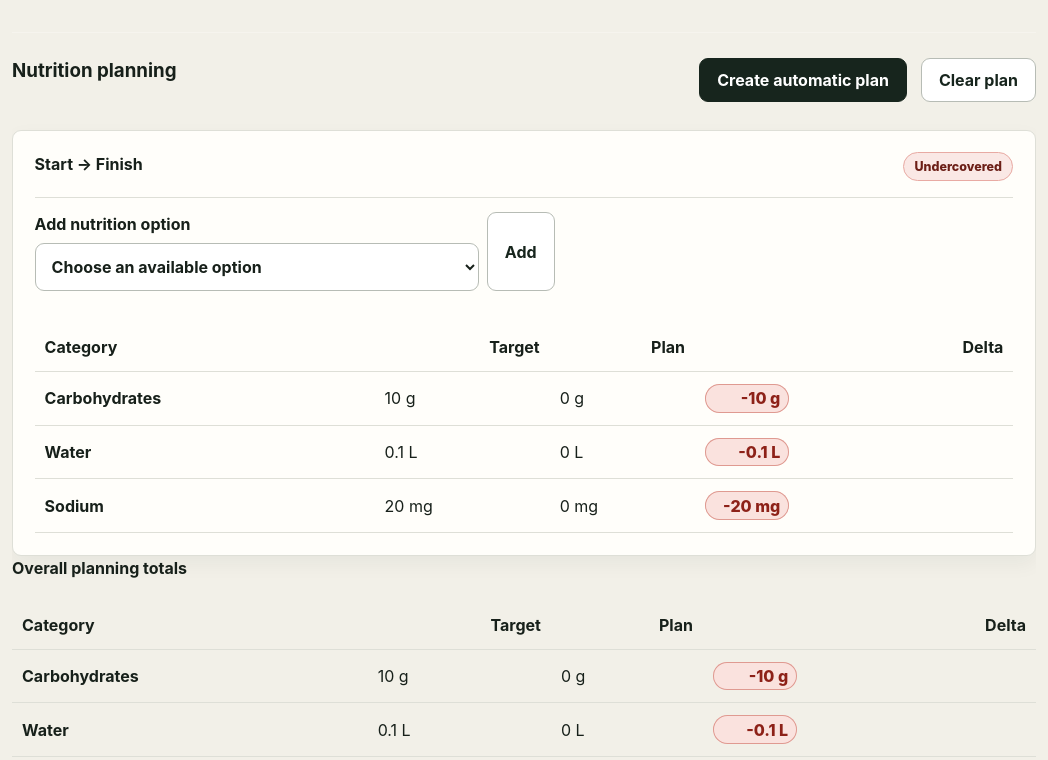
Test case: NutritionPlanningView › shows accessible progress while using the ten-second deadline
Click the button "Create automatic plan" at coordinates (803, 80), box [699,58,907,102]
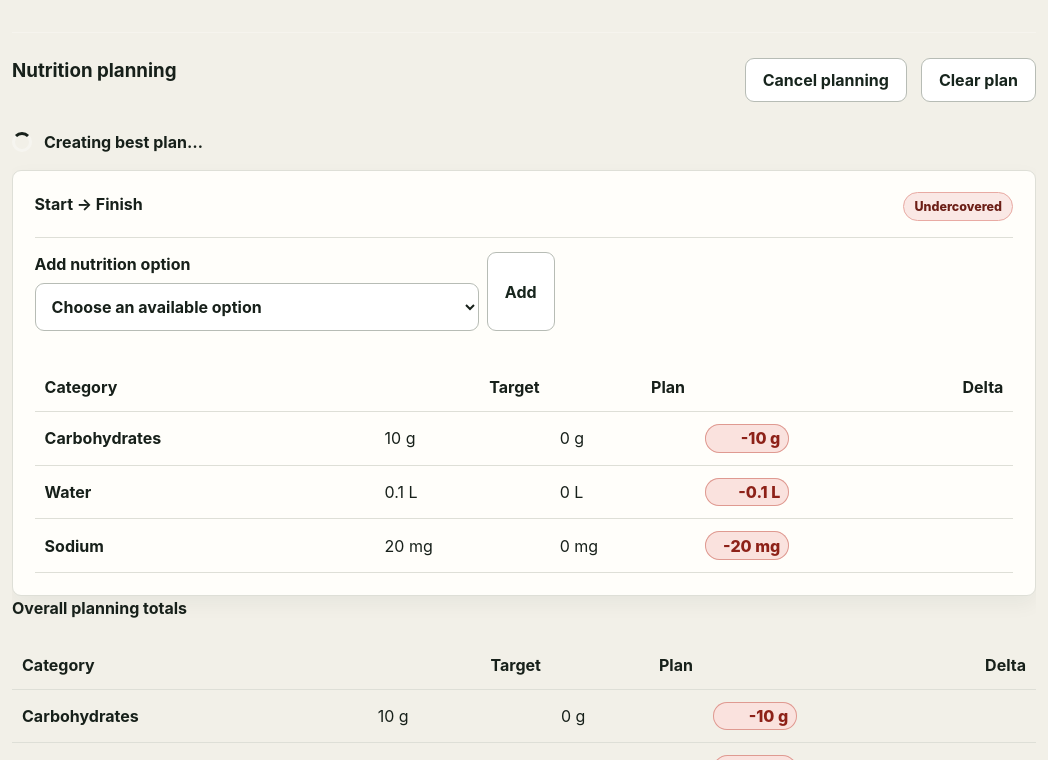
Now the message reads "Creating best plan…", box [44,132,203,152]
Now the button "Cancel planning" is shown, box [745,58,907,102]
